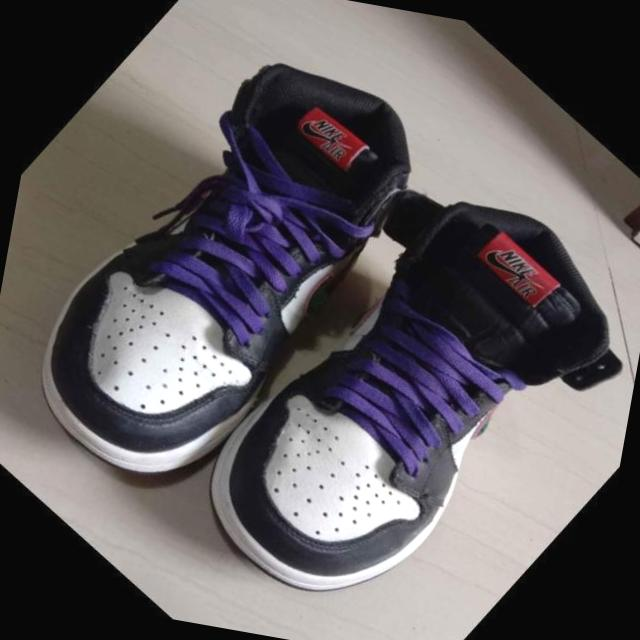nike_fake_jordan: (0, 0, 491, 556), (153, 119, 640, 640)
